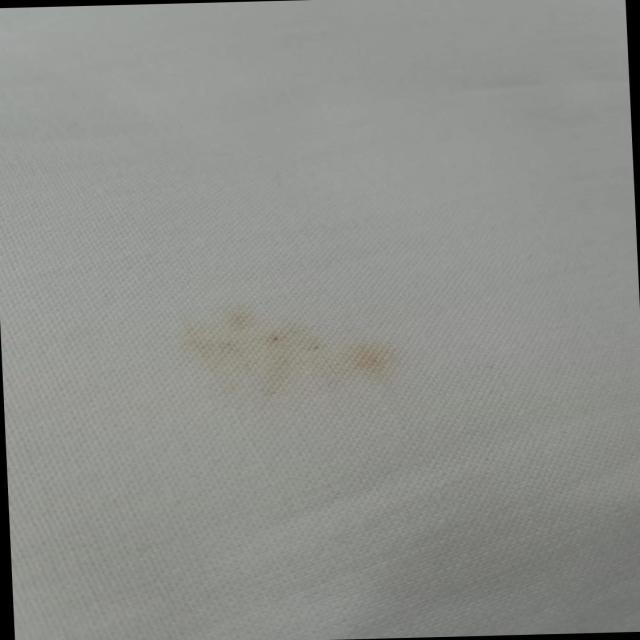stain: (170, 292, 415, 414)
